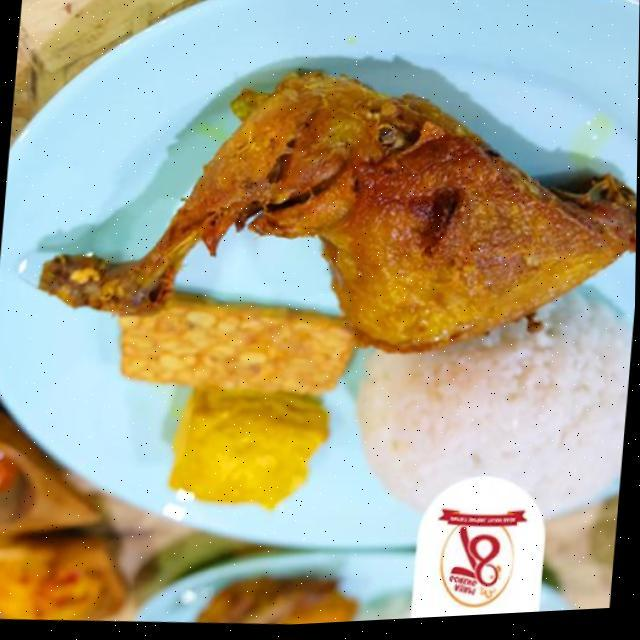ayam goreng: (28, 31, 639, 389)
nasi: (348, 264, 636, 538)
tahu goreng: (157, 380, 339, 516)
tempe goreng: (111, 286, 366, 402)
